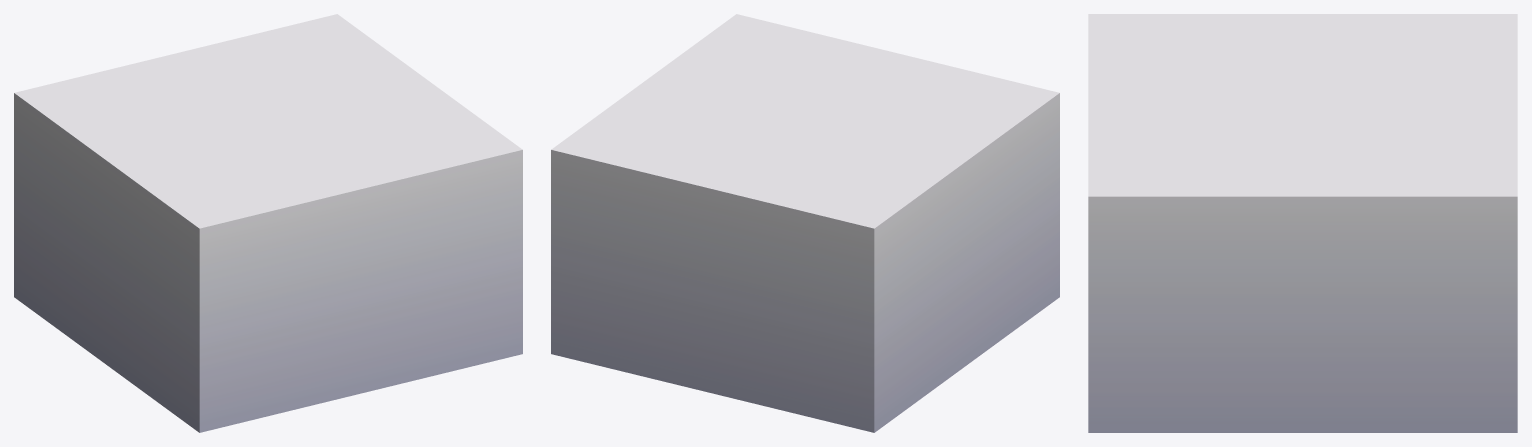
The model's file is kenney-brick-none-lq-brick-2-x-2.glb.
3 renders of one model, left to right at view 1: azimuth 30°, elevation 25°; view 2: azimuth 150°, elevation 25°; view 3: azimuth 270°, elevation 25°, orthographic. The views are drawn at different scales.
Visible parts, largest first — view 1: none-lq-brick-2x2; view 2: none-lq-brick-2x2; view 3: none-lq-brick-2x2.
Boxes of the visible parts, x1=… form: none-lq-brick-2x2: x1=14, y1=14, x2=522, y2=432; none-lq-brick-2x2: x1=551, y1=14, x2=1059, y2=432; none-lq-brick-2x2: x1=1088, y1=14, x2=1517, y2=432.
Size of the model in its own units: 0.159 by 0.096 by 0.158.
1 material, 1 textured.
